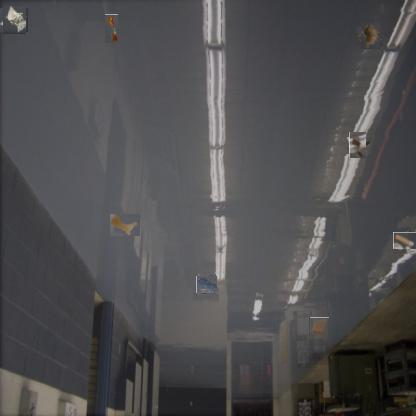dirty: (1, 7, 27, 34), (358, 25, 382, 47), (347, 135, 369, 156), (394, 230, 415, 251), (309, 317, 329, 338), (104, 14, 118, 43)
liquid: (110, 214, 140, 236), (197, 275, 217, 294)
